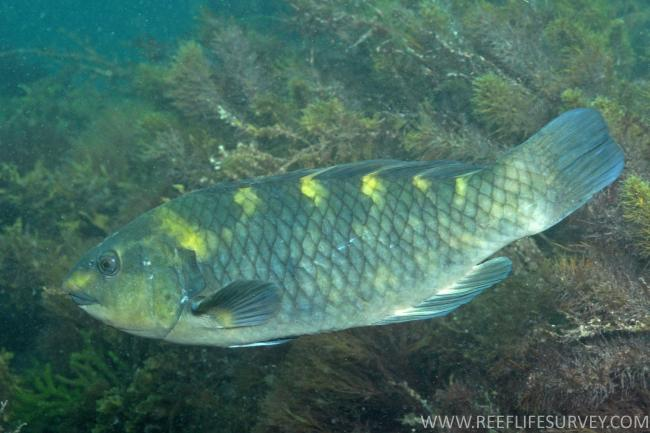fish: (67, 108, 624, 347)
